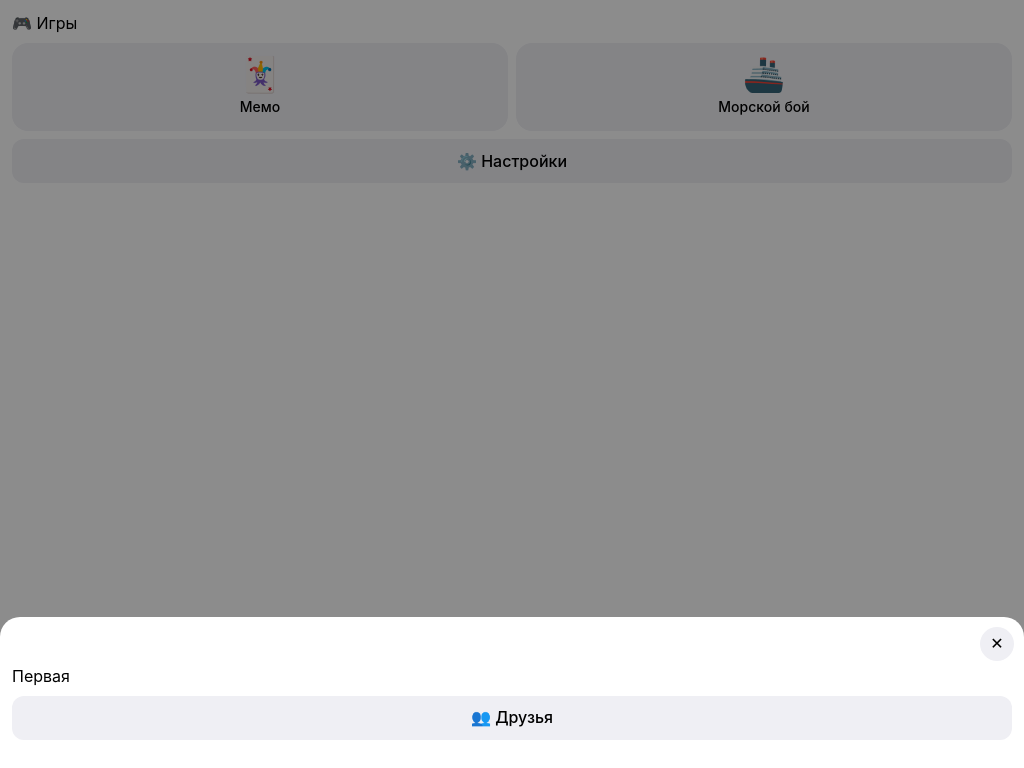
Scenario: карточки notice › идут очередью: кнопка карточки шлёт press и закрывает, крестик закрывает
The width and height of the screenshot is (1024, 768).
Check: the dialog with class "notice-sheet" shows "Первая", box [12,666,70,686]
Click the button "👥 Друзья".
click(512, 718)  # box [12,696,1012,740]
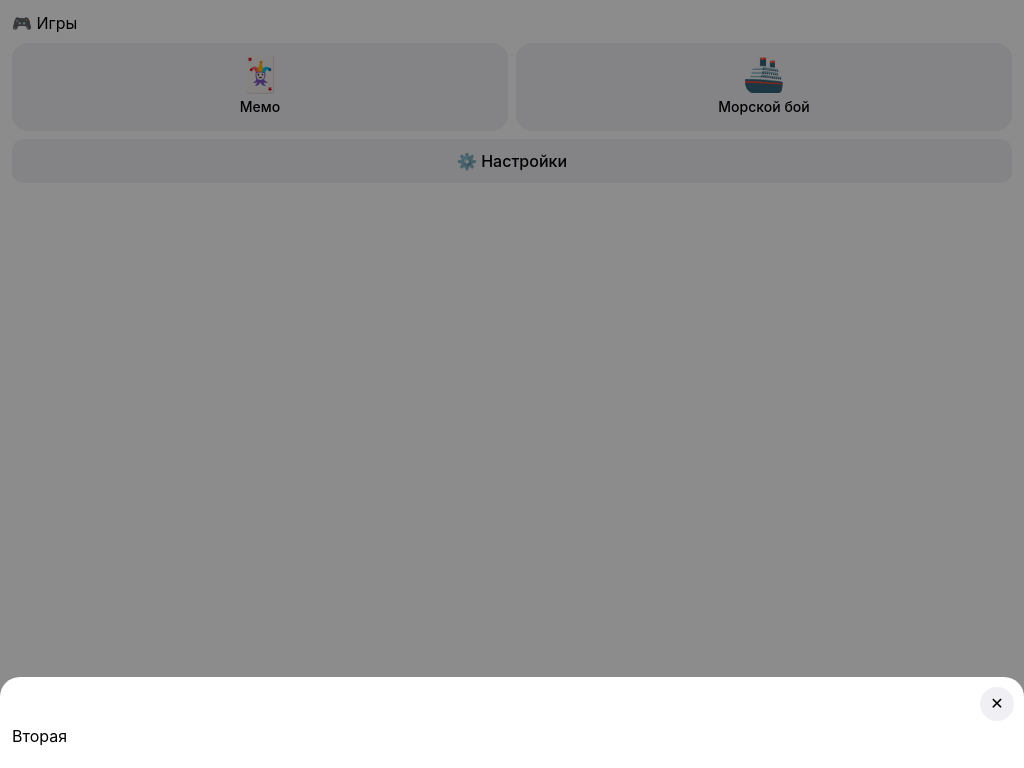
Check: the dialog with class "notice-sheet" shows "Вторая", box [12,726,67,746]
Click the button with class "notice-close".
click(997, 704)  # box [980,687,1014,721]
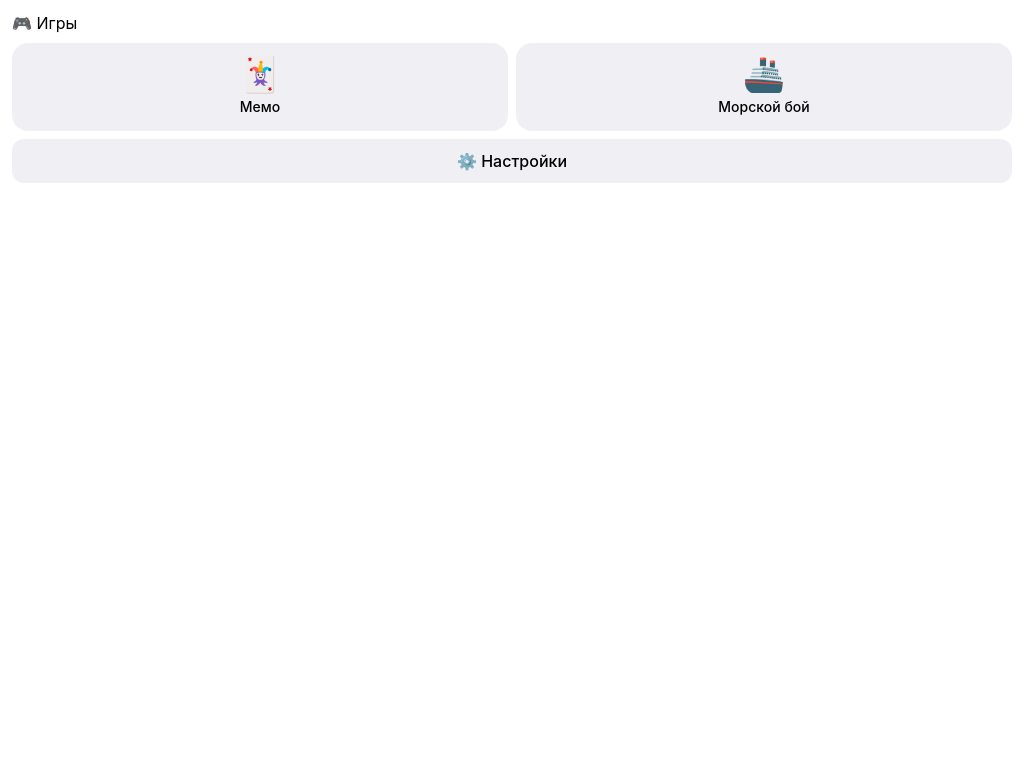
Check: the dialog with class "notice-sheet" is gone
